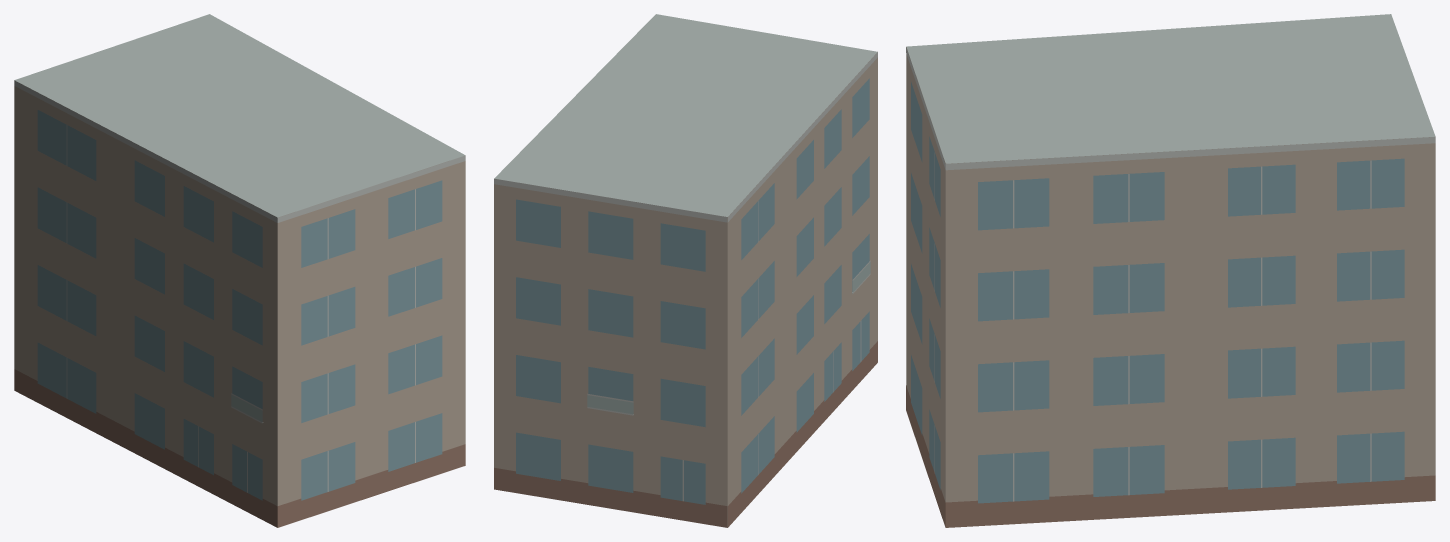
File: survey-upis-32705471.glb
3 views of the same model, side by side, from view 1: azimuth 30°, elevation 25°; view 2: azimuth 150°, elevation 25°; view 3: azimuth 270°, elevation 25° (orthographic). The views are drawn at different scales.
Visible parts, largest first — view 1: survey-upis-32705471.tmp; view 2: survey-upis-32705471.tmp; view 3: survey-upis-32705471.tmp.
Boxes of the visible parts, x1,y1,x2,y2 form: survey-upis-32705471.tmp: [14, 14, 465, 527]; survey-upis-32705471.tmp: [494, 14, 877, 527]; survey-upis-32705471.tmp: [906, 14, 1435, 527].
Bounding box in the file's own units: 12.05 × 13.65 × 18.
